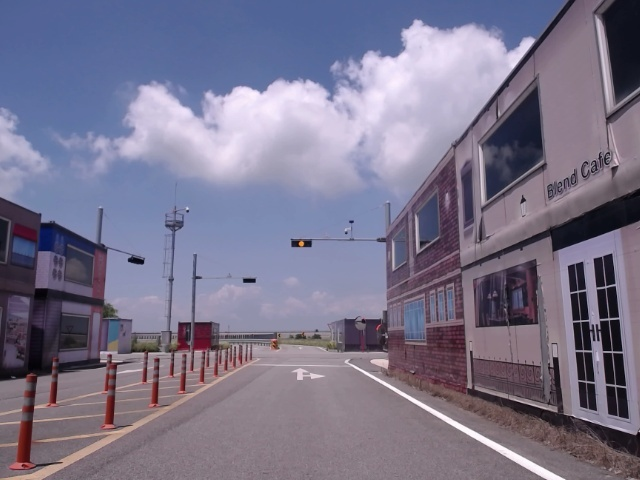orange_3: (292, 240, 312, 247)
